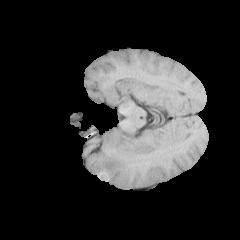glioma: (88, 140, 136, 183)
